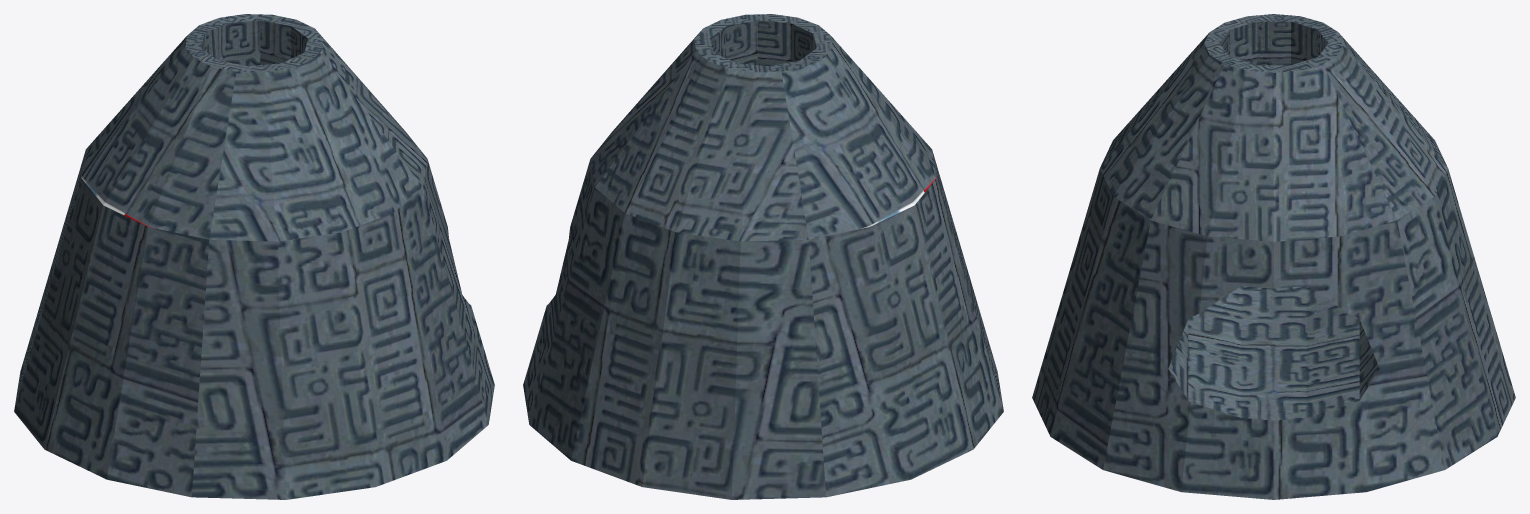
Rendered from stone_furnace.glb.
The picture shows the model from 3 angles, left to right: view 1: azimuth 30°, elevation 25°; view 2: azimuth 150°, elevation 25°; view 3: azimuth 270°, elevation 25°; orthographic projection.
Visible parts, largest first — view 1: Cylinder; view 2: Cylinder; view 3: Cylinder.
Boxes of the visible parts, box(x1,y1,x2,y2) form: Cylinder: box(14, 14, 494, 499); Cylinder: box(523, 14, 1003, 499); Cylinder: box(1032, 14, 1515, 499).
Size of the model in its own units: 1.73 by 1.4 by 1.73.
1 material, 1 textured.
